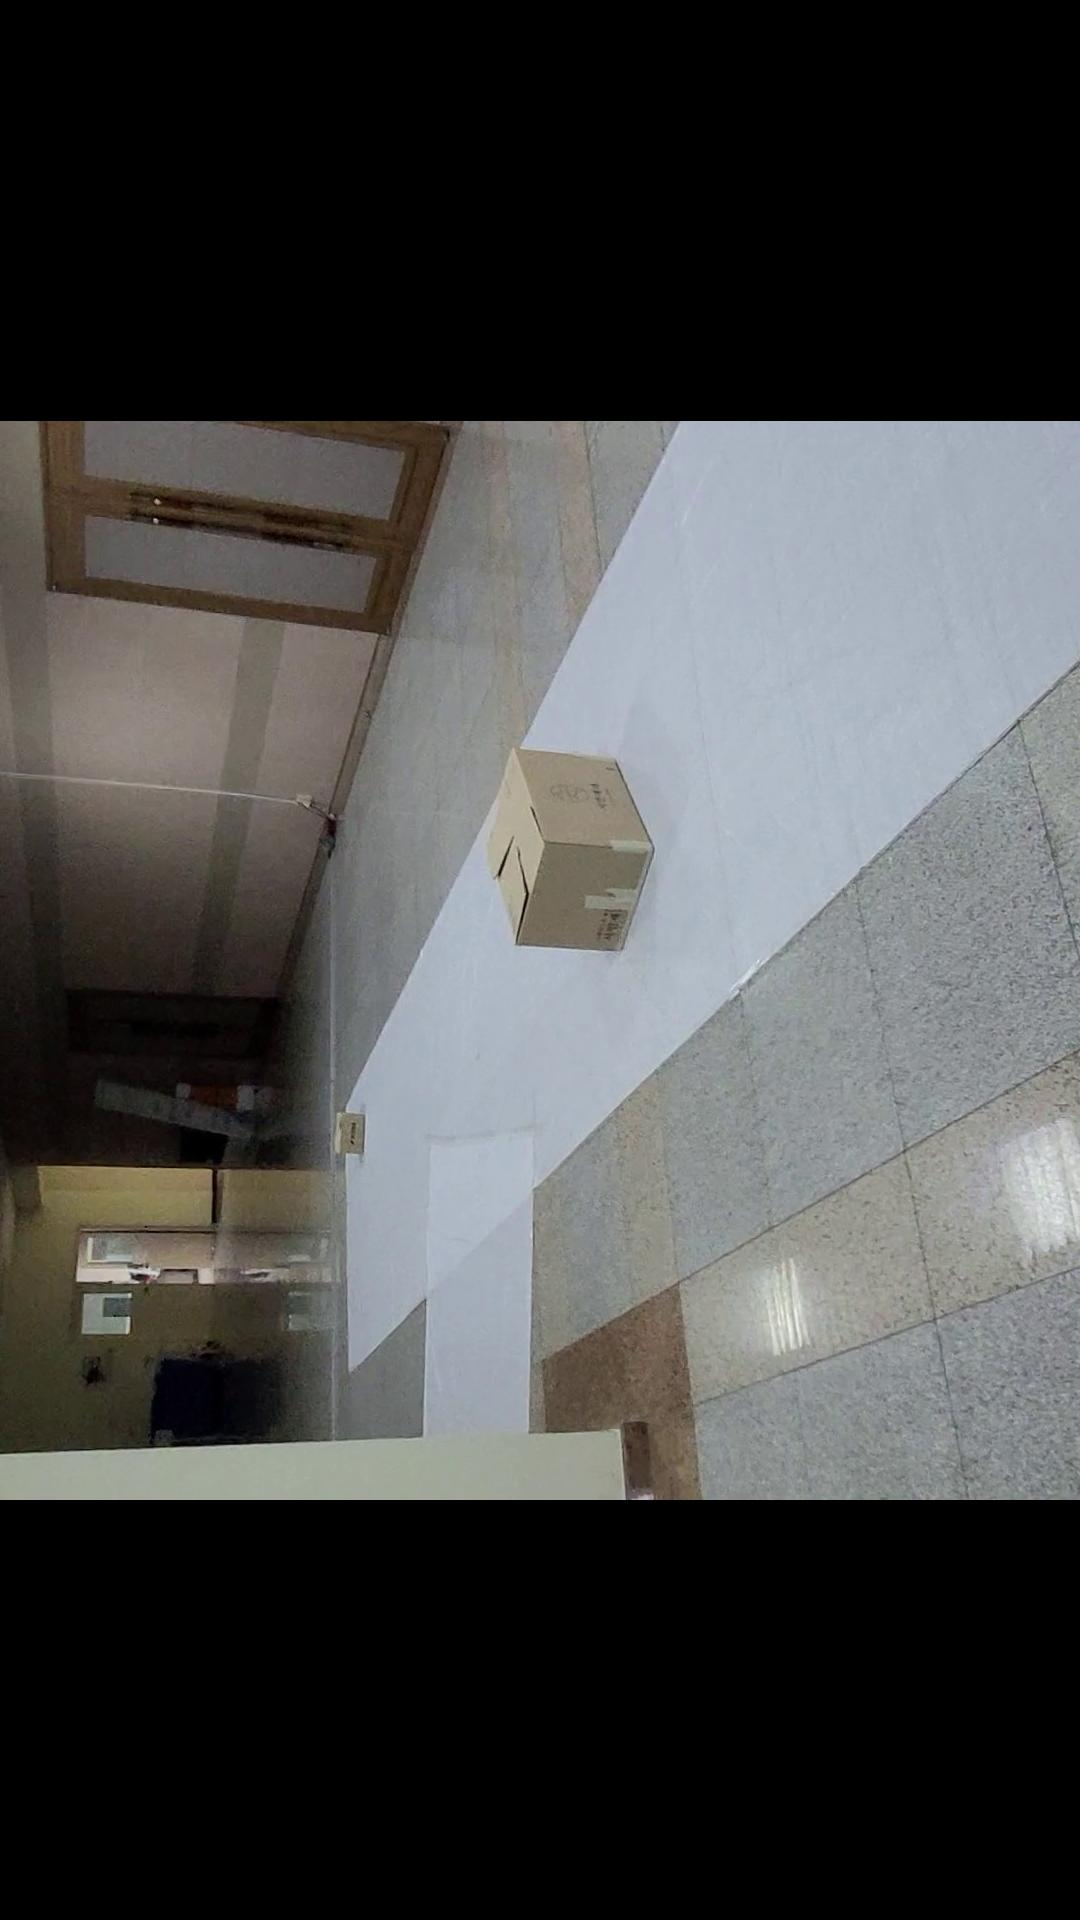Box: (477, 740, 673, 953), (328, 1095, 375, 1167)
